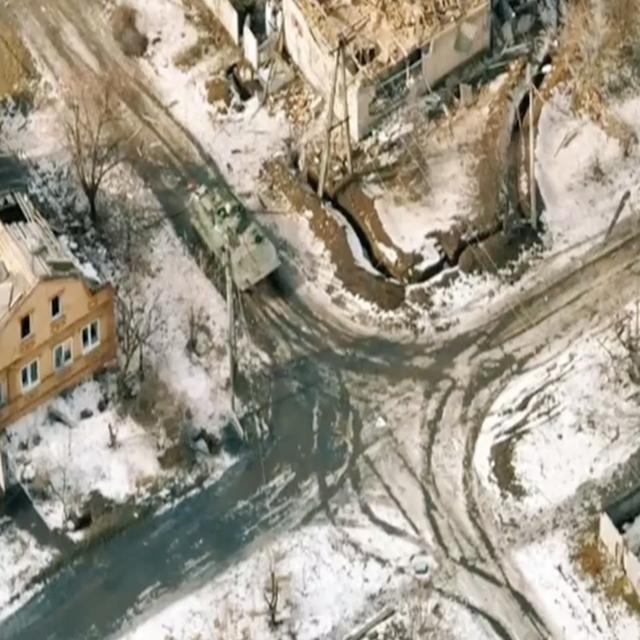vehicle: (178, 186, 283, 295)
